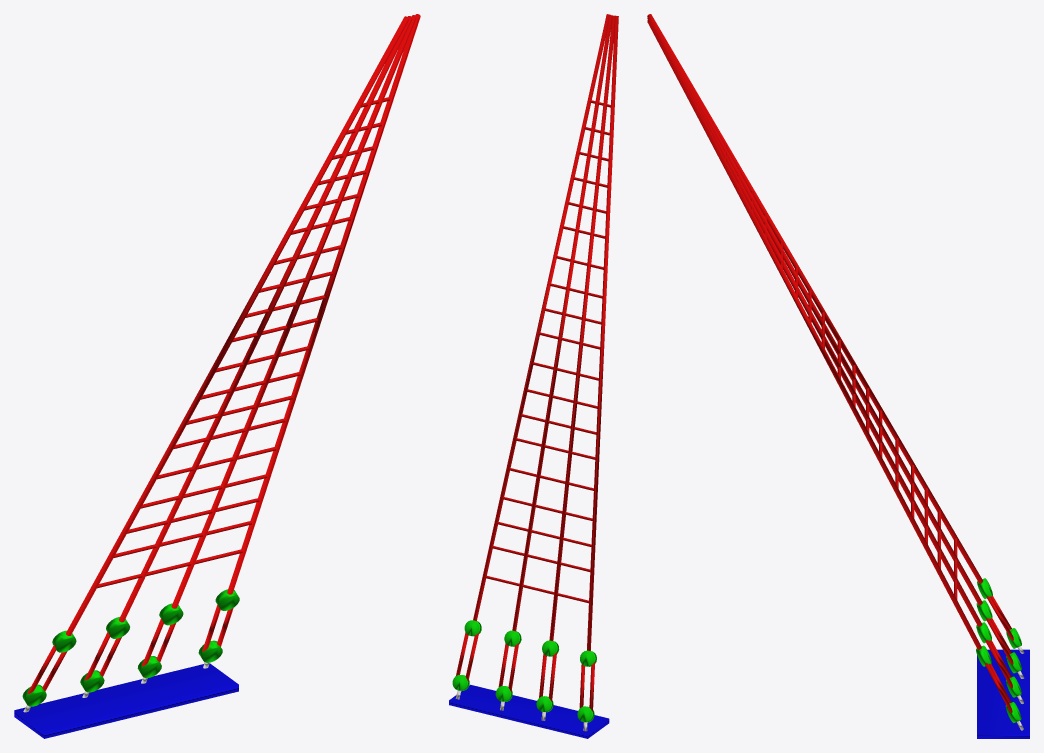
The model's file is 8rope2l.fbx.
The picture shows the model from 3 angles, left to right: view 1: azimuth 30°, elevation 25°; view 2: azimuth 150°, elevation 25°; view 3: azimuth 270°, elevation 25°; orthographic projection. The views are drawn at different scales.
Parts seen in each view (by area): view 1: 2l; view 2: 2l; view 3: 2l.
Part boxes in pixels (box(x1,y1,x2,y2)): 2l: box(14, 14, 420, 738); 2l: box(449, 14, 618, 738); 2l: box(647, 14, 1029, 738).
Bounding box in the file's own units: 303 × 1200 × 581.
